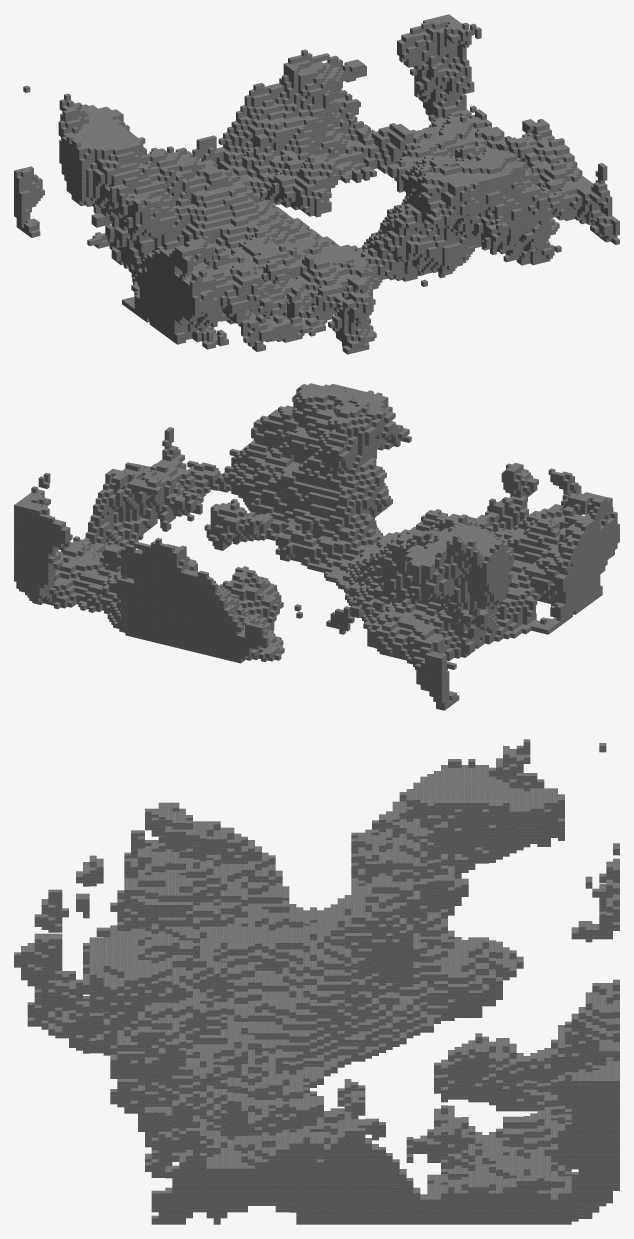
3 views of the same model, one above another, from view 1: azimuth 30°, elevation 25°; view 2: azimuth 150°, elevation 25°; view 3: azimuth 270°, elevation 25° (orthographic). The views are drawn at different scales.
Visible parts, largest first — view 1: Node; view 2: Node; view 3: Node.
Boxes of the visible parts, x1=… form: Node: x1=14, y1=14, x2=619, y2=354; Node: x1=14, y1=383, x2=619, y2=710; Node: x1=14, y1=739, x2=619, y2=1224.
Size of the model in its own units: 100 by 33 by 88.
Materials: 1 (1 with a texture image).
